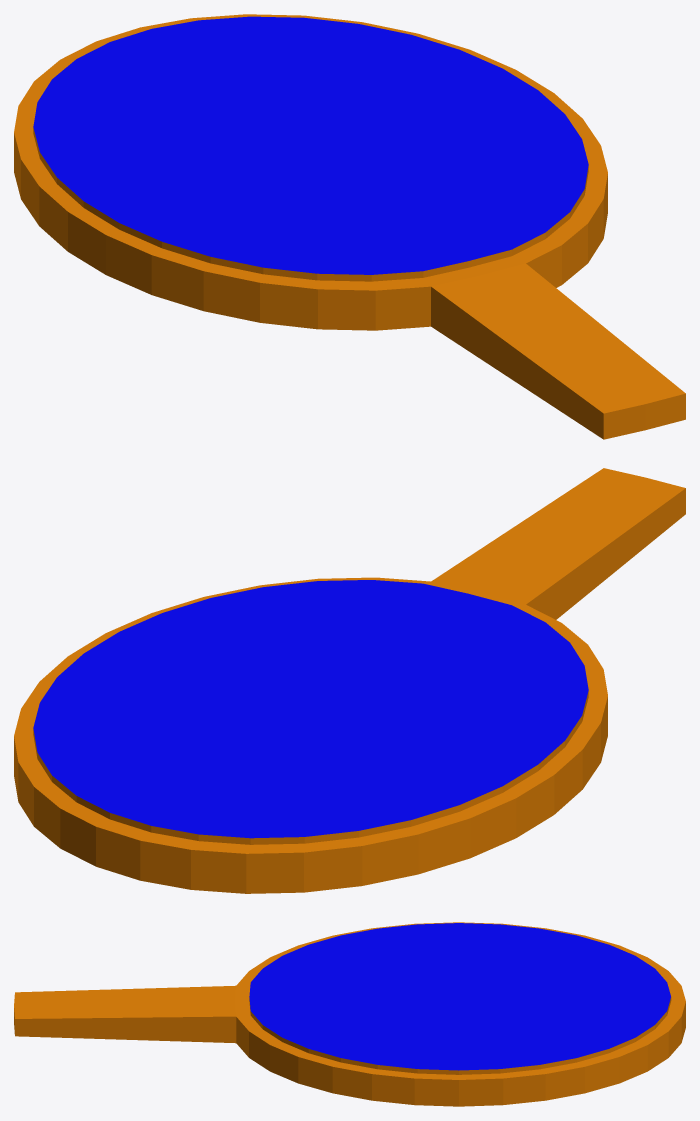
Rendered from raquatteJ1.fbx.
The picture shows the model from 3 angles, top to bottom: view 1: azimuth 30°, elevation 25°; view 2: azimuth 150°, elevation 25°; view 3: azimuth 270°, elevation 25°; orthographic projection. The views are drawn at different scales.
Visible parts, largest first — view 1: Paddle.001; view 2: Paddle.001; view 3: Paddle.001.
Boxes of the visible parts, left/top/right/bottom form: Paddle.001: left=14, top=14, right=685, bottom=439; Paddle.001: left=14, top=468, right=685, bottom=893; Paddle.001: left=14, top=922, right=685, bottom=1106.
Bounding box in the file's own units: 15 × 1.5 × 27.
